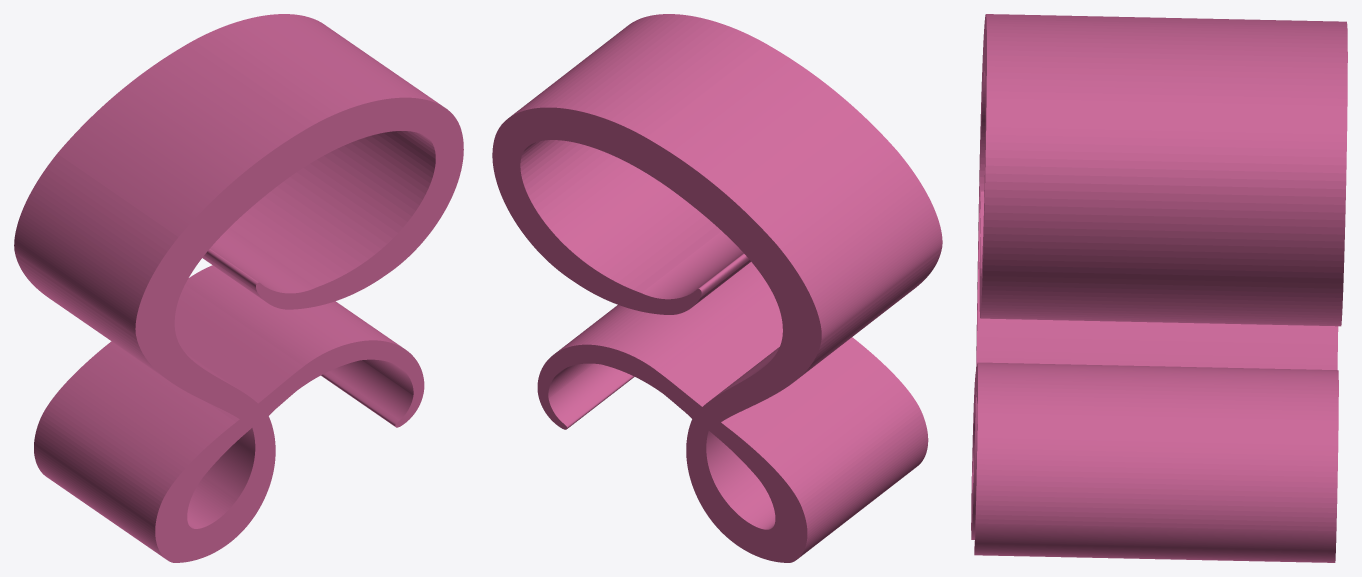
The model's file is scss.gltf.
3 renders of one model, left to right at view 1: azimuth 30°, elevation 25°; view 2: azimuth 150°, elevation 25°; view 3: azimuth 270°, elevation 25°, orthographic. The views are drawn at different scales.
Visible parts, largest first — view 1: Path; view 2: Path; view 3: Path.
Boxes of the visible parts, x1,y1,x2,y2 form: Path: (14, 14, 463, 562); Path: (492, 14, 942, 562); Path: (971, 14, 1347, 562).
Bounding box in the file's own units: 0.0235 × 0.0283 × 0.0157.
